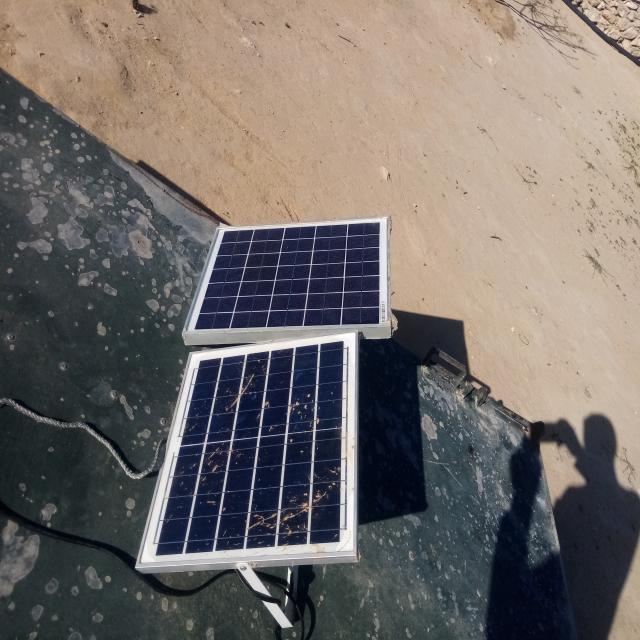faulty: (135, 330, 358, 567)
no faulty: (182, 217, 390, 335)
